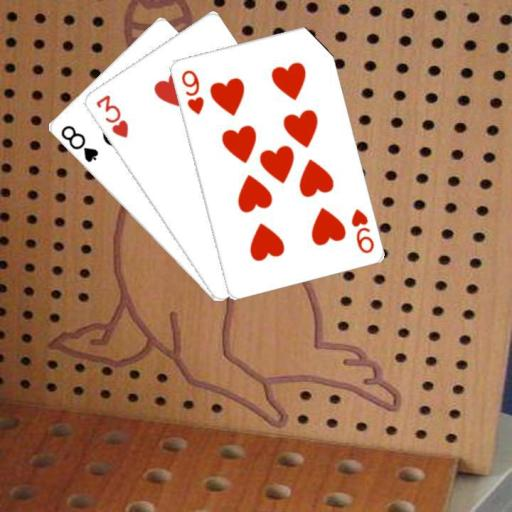3H: (93, 91, 130, 139)
8S: (57, 123, 99, 165)
9H: (178, 66, 205, 116), (348, 205, 375, 255)
